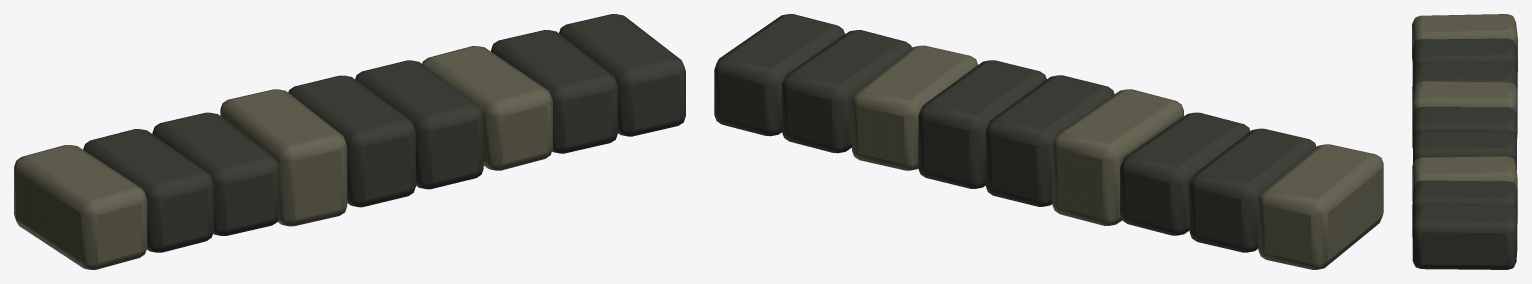
The model's file is StoneEdgingSection.gltf.
3 renders of one model, left to right at view 1: azimuth 30°, elevation 25°; view 2: azimuth 150°, elevation 25°; view 3: azimuth 270°, elevation 25°, orthographic. The views are drawn at different scales.
Parts seen in each view (by area): view 1: StoneEdgingSection__Body; view 2: StoneEdgingSection__Body; view 3: StoneEdgingSection__Body.
Part boxes in pixels (x1,y1,x2,y2): StoneEdgingSection__Body: (14,14,685,269); StoneEdgingSection__Body: (714,14,1383,269); StoneEdgingSection__Body: (1412,14,1517,269).
Bounding box in the file's own units: 1.2 × 0.154 × 0.252.
1 material, 1 textured.
